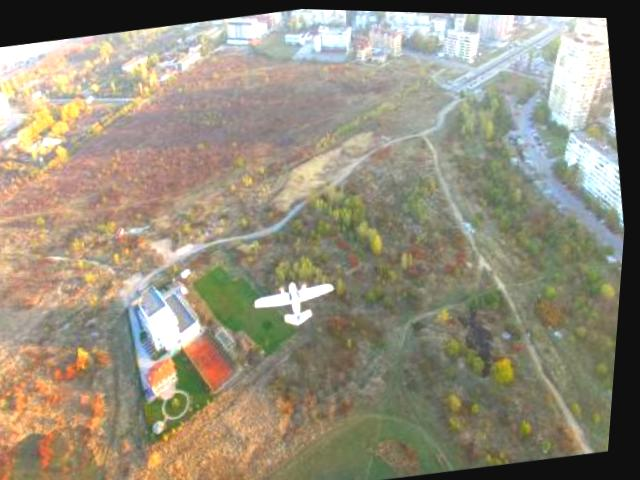uav: (248, 261, 352, 338)
